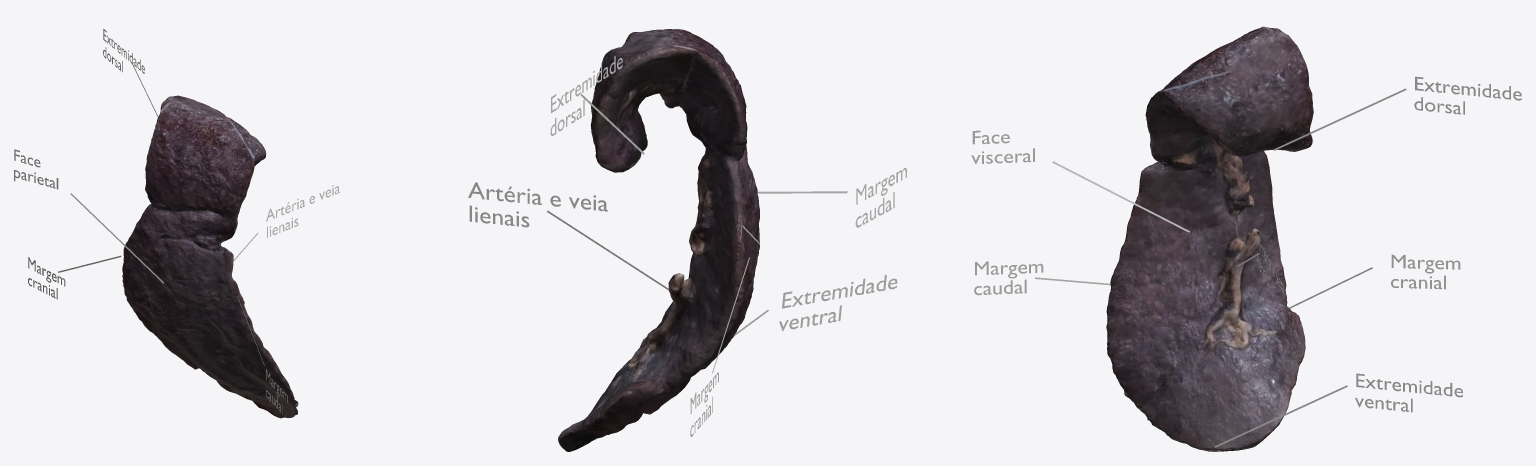
File: baço.glb
3 renders of one model, left to right at view 1: azimuth 30°, elevation 25°; view 2: azimuth 150°, elevation 25°; view 3: azimuth 270°, elevation 25°, orthographic. The views are drawn at different scales.
Parts seen in each view (by area): view 1: 3DModel_LowPoly, Texto.007, Texto.002, Texto.003, Texto.032; view 2: 3DModel_LowPoly, Texto.023, Texto.035, Texto.032, Texto.038; view 3: 3DModel_LowPoly, Texto.028, Texto.031, Texto.041, Texto.037.
Part boxes in pixels (x1,y1,x2,y2): 3DModel_LowPoly: [122, 95, 298, 418]; Texto.007: [266, 185, 339, 237]; Texto.002: [14, 149, 58, 189]; Texto.003: [28, 257, 65, 299]; Texto.032: [103, 29, 144, 73]; 3DModel_LowPoly: [558, 29, 759, 451]; Texto.023: [468, 182, 607, 227]; Texto.035: [779, 274, 897, 330]; Texto.032: [550, 56, 622, 135]; Texto.038: [855, 168, 906, 227]; 3DModel_LowPoly: [1106, 26, 1313, 451]; Texto.028: [1355, 373, 1462, 412]; Texto.031: [1414, 76, 1521, 114]; Texto.041: [974, 261, 1043, 295]; Texto.037: [1391, 254, 1460, 289].
Size of the model in its own units: 1.88 by 2.16 by 2.91.
1 material, 1 textured.
